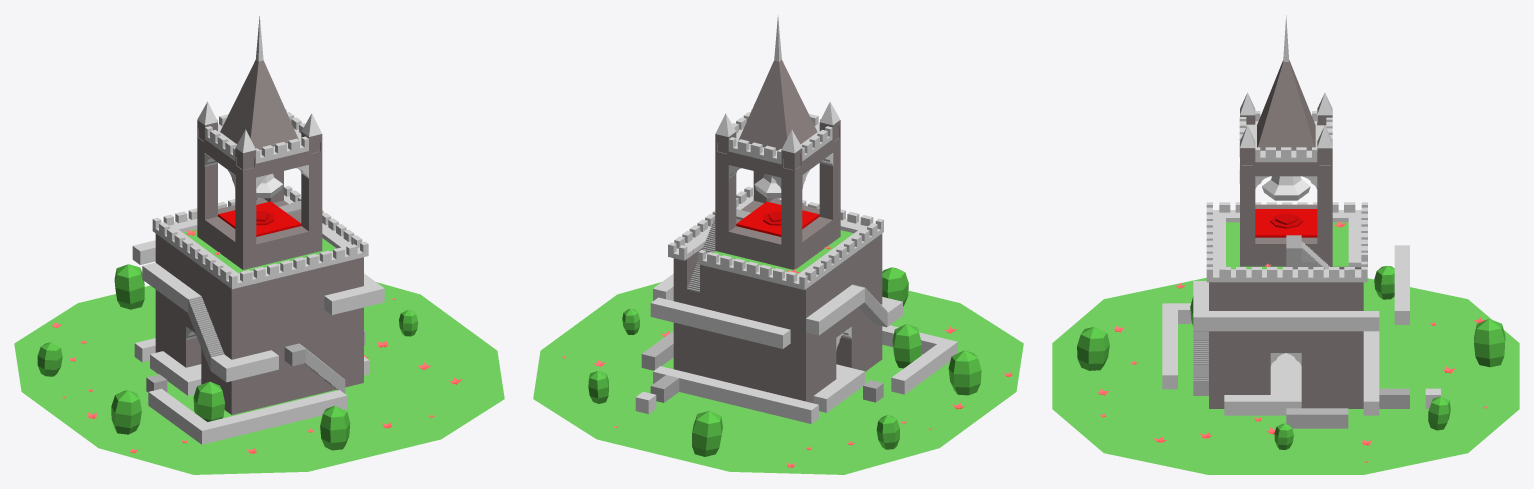
File: level 2 fin.fbx
3 views of the same model, side by side, from view 1: azimuth 30°, elevation 25°; view 2: azimuth 150°, elevation 25°; view 3: azimuth 270°, elevation 25° (orthographic).
Visible parts, largest first — view 1: Plane.003, Cube__19_.002, Cube.171, Cube.170, Cube.173, Cube.166, Cube.169, Cube.140, Cube.139, Cube.136, Cube.142, EndPointL2.001 (+9 smaller); view 2: Plane.003, Cube__19_.002, Cube.172, Cube.168, Cube.171, Cube.169, Cube.173, Cube.139, Cube.140, Cube.142, EndPointL2.001, Cube.117 (+11 smaller); view 3: Plane.003, Cube__19_.002, Cube.166, Cube.173, Cube.171, Plane.004, EndPointL2.001, Cube.172, Cube.140, Cube__13_.002, Cube.168, Cube.136 (+11 smaller).
Boxes of the visible parts, x1=… form: Plane.003: x1=14, y1=282, x2=504, y2=474; Cube__19_.002: x1=155, y1=60, x2=363, y2=414; Cube.171: x1=148, y1=388, x2=347, y2=444; Cube.170: x1=211, y1=350, x2=278, y2=382; Cube.173: x1=150, y1=351, x2=369, y2=395; Cube.166: x1=324, y1=273, x2=384, y2=314; Cube.169: x1=142, y1=262, x2=200, y2=312; Cube.140: x1=114, y1=264, x2=144, y2=309; Cube.139: x1=111, y1=390, x2=141, y2=434; Cube.136: x1=320, y1=406, x2=350, y2=450; Cube.142: x1=193, y1=381, x2=225, y2=421; EndPointL2.001: x1=218, y1=201, x2=301, y2=236; Plane.003: x1=533, y1=282, x2=1023, y2=474; Cube__19_.002: x1=673, y1=60, x2=882, y2=403; Cube.172: x1=653, y1=366, x2=818, y2=423; Cube.168: x1=650, y1=297, x2=790, y2=348; Cube.171: x1=882, y1=325, x2=957, y2=394; Cube.169: x1=806, y1=285, x2=864, y2=335; Cube.173: x1=813, y1=364, x2=864, y2=412; Cube.139: x1=948, y1=350, x2=981, y2=395; Cube.140: x1=692, y1=410, x2=722, y2=456; Cube.142: x1=892, y1=324, x2=921, y2=368; EndPointL2.001: x1=736, y1=201, x2=819, y2=236; Cube.117: x1=698, y1=250, x2=760, y2=276; Plane.003: x1=1052, y1=277, x2=1519, y2=474; Cube__19_.002: x1=1209, y1=60, x2=1363, y2=408; Cube.166: x1=1193, y1=291, x2=1379, y2=331; Cube.173: x1=1224, y1=353, x2=1301, y2=415; Cube.171: x1=1162, y1=303, x2=1192, y2=389; Plane.004: x1=1226, y1=222, x2=1348, y2=269; EndPointL2.001: x1=1255, y1=209, x2=1317, y2=237; Cube.172: x1=1363, y1=331, x2=1379, y2=415; Cube.140: x1=1474, y1=319, x2=1505, y2=367; Cube__13_.002: x1=1286, y1=408, x2=1348, y2=428; Cube.168: x1=1394, y1=245, x2=1409, y2=324; Cube.136: x1=1077, y1=327, x2=1109, y2=370.
Bounding box in the file's own units: 906 × 805 × 906.
